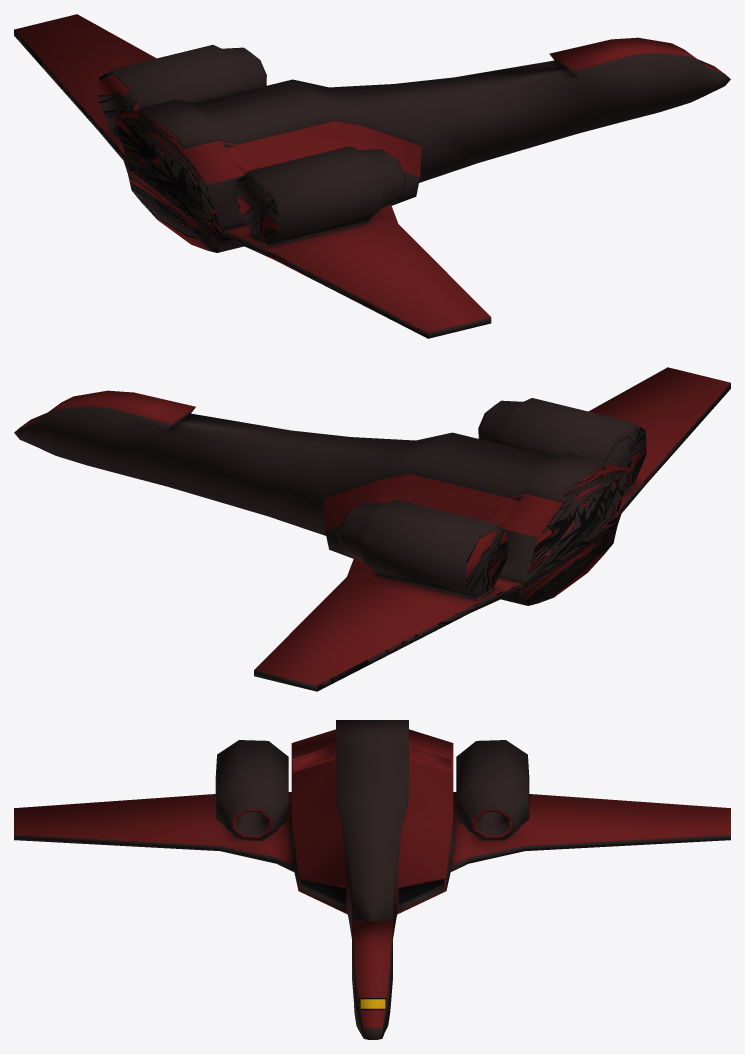
3 views of the same model, one above another, from view 1: azimuth 30°, elevation 25°; view 2: azimuth 150°, elevation 25°; view 3: azimuth 270°, elevation 25° (orthographic). The views are drawn at different scales.
Visible parts, largest first — view 1: Sam; view 2: Sam; view 3: Sam.
Part boxes in pixels (left/top/right/bottom): Sam: left=14, top=14, right=730, bottom=338; Sam: left=14, top=367, right=730, bottom=691; Sam: left=14, top=720, right=730, bottom=1039.
Bounding box in the file's own units: 88.71 × 16.71 × 112.
